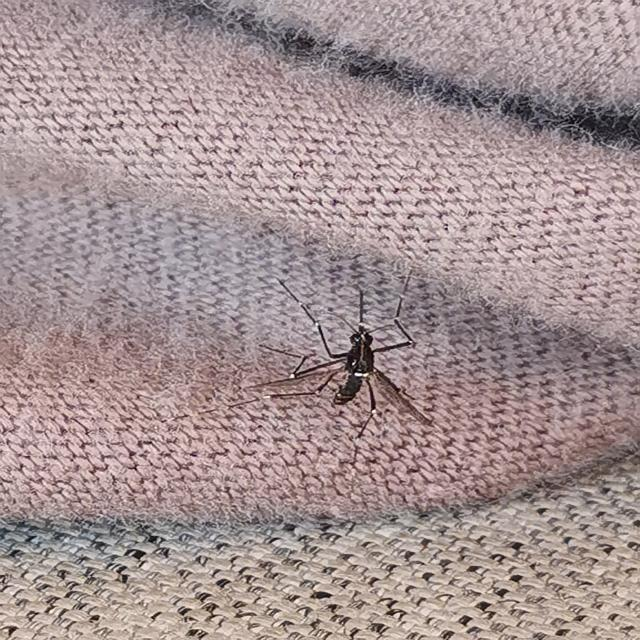albopictus: (230, 268, 444, 444)
